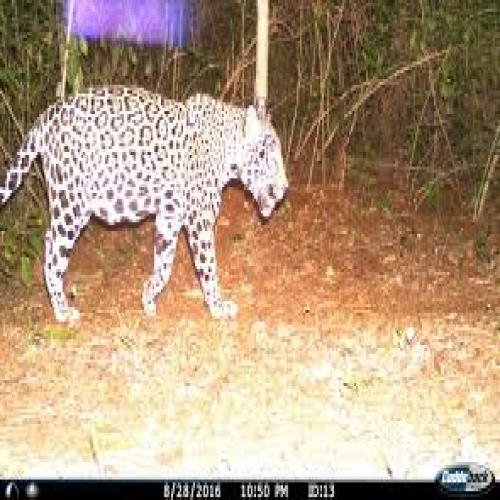jaguar_not-endangered: (0, 82, 288, 322)
